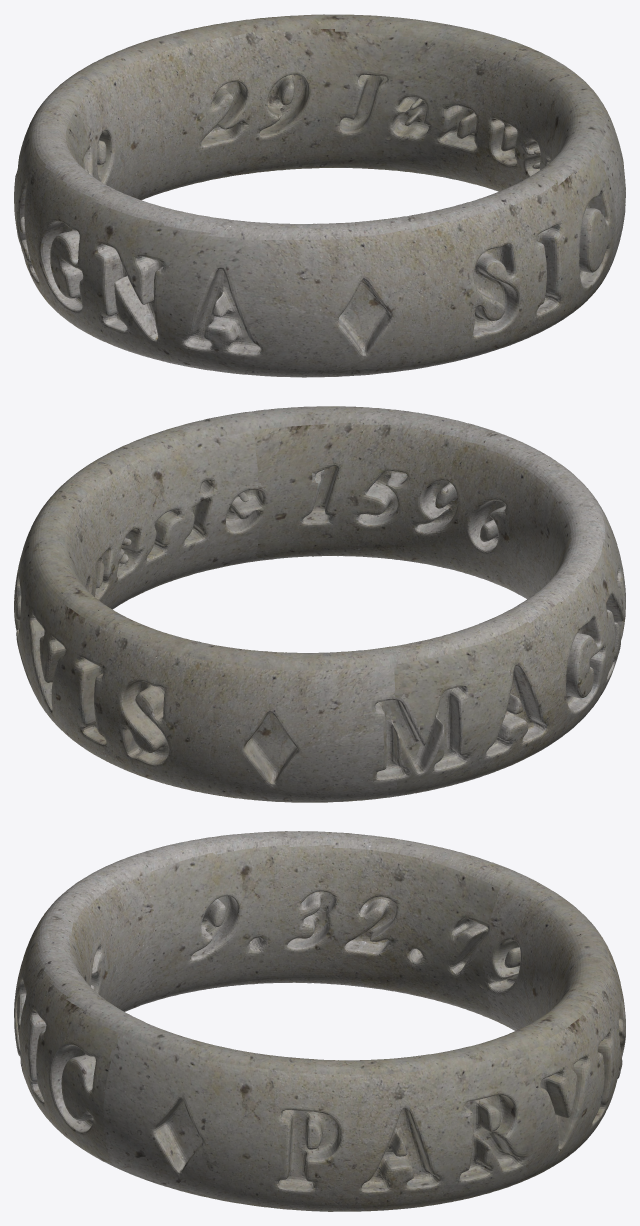
File: uncharted-ring-draco.gltf
3 views of the same model, one above another, from view 1: azimuth 30°, elevation 25°; view 2: azimuth 150°, elevation 25°; view 3: azimuth 270°, elevation 25° (orthographic).
Visible parts, largest first — view 1: Mesh_0; view 2: Mesh_0; view 3: Mesh_0.
Part boxes in pixels (box(x1,y1,x2,y2)): Mesh_0: box(14, 14, 625, 377); Mesh_0: box(14, 406, 625, 802); Mesh_0: box(14, 831, 625, 1211).
Size of the model in its own units: 3.25 by 0.9804 by 3.24.
Materials: 1 (1 with a texture image).
